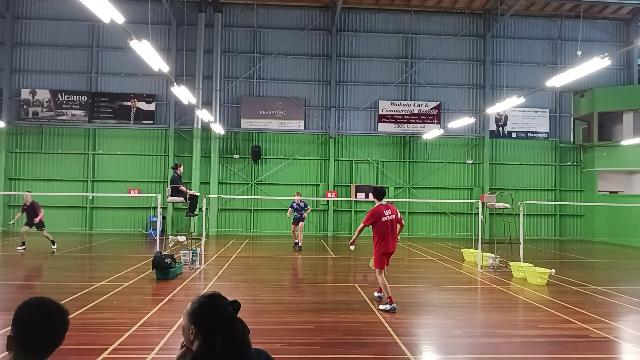Shuttlecock: (347, 242, 357, 252)
